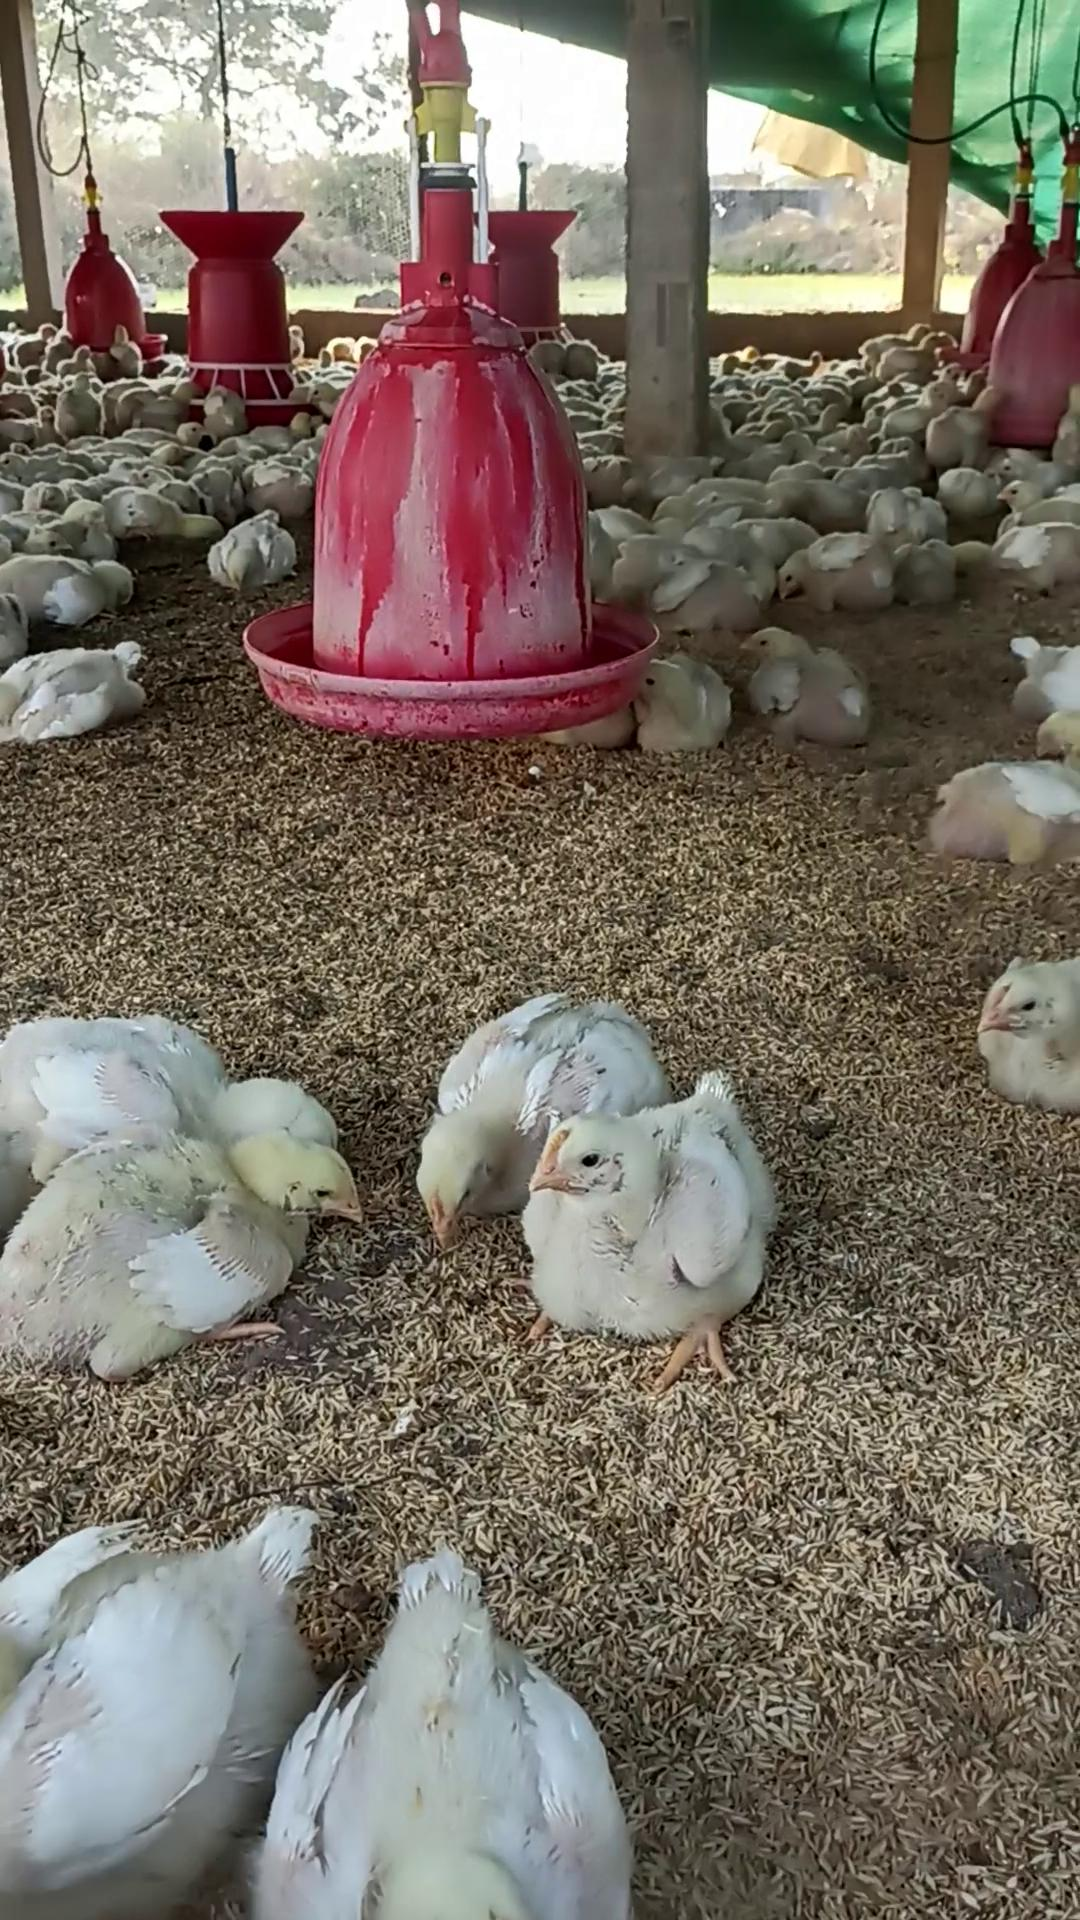Pollos: (0, 1129, 367, 1385), (517, 1069, 765, 1342), (413, 998, 530, 1245), (738, 622, 877, 746), (769, 531, 890, 609), (632, 657, 727, 749), (1000, 475, 1080, 568), (208, 505, 297, 589)
